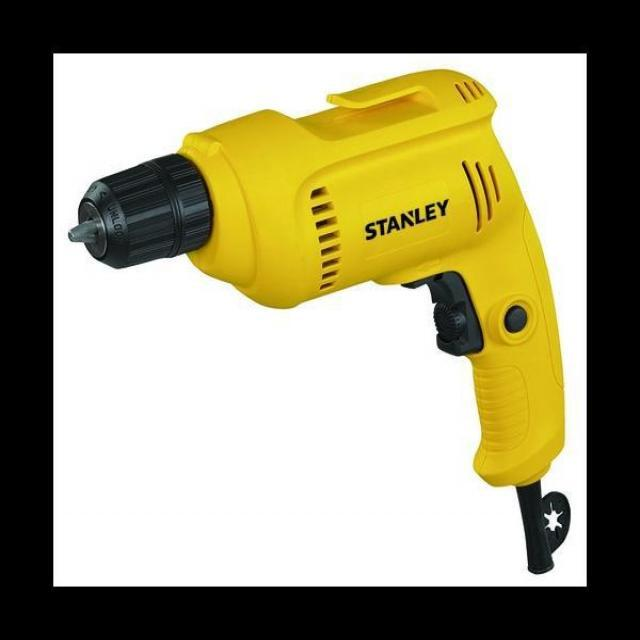drill: (68, 69, 572, 577)
